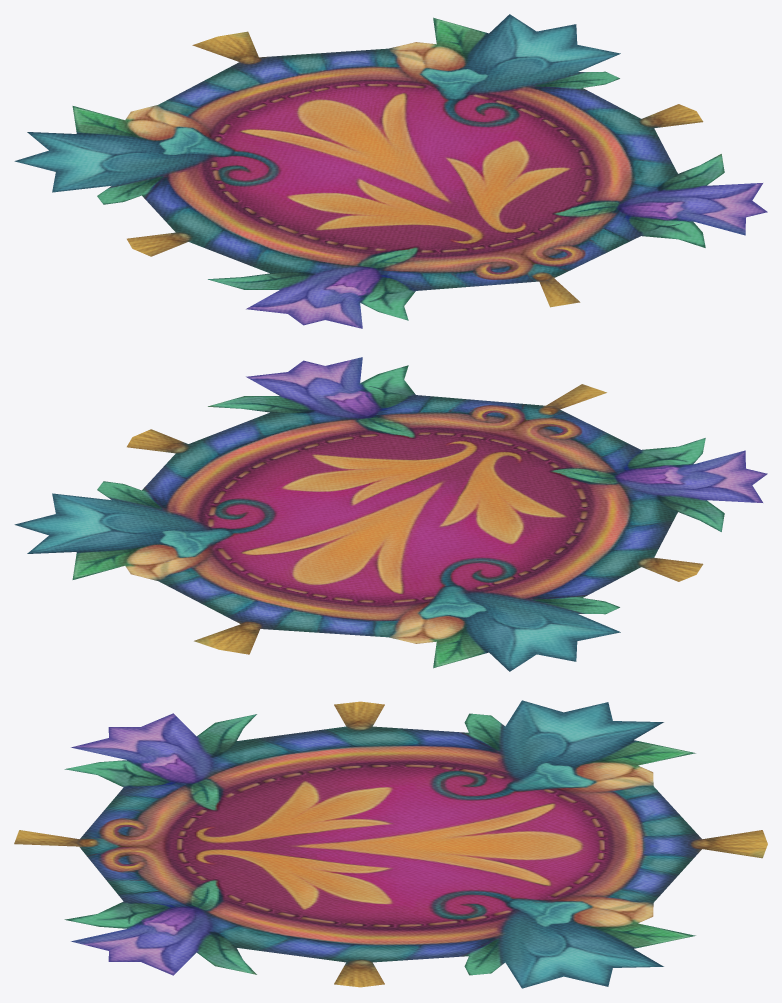
The model's file is FT_Flower_carpet01.FBX.
3 renders of one model, top to bottom at view 1: azimuth 30°, elevation 25°; view 2: azimuth 150°, elevation 25°; view 3: azimuth 270°, elevation 25°, orthographic. The views are drawn at different scales.
Parts seen in each view (by area): view 1: FT_Flower_carpet01; view 2: FT_Flower_carpet01; view 3: FT_Flower_carpet01.
Boxes of the visible parts, box(x1,y1,x2,y2) form: FT_Flower_carpet01: box(14, 14, 767, 328); FT_Flower_carpet01: box(14, 357, 767, 671); FT_Flower_carpet01: box(14, 700, 767, 988).
Size of the model in its own units: 2.65 by 2.71e-09 by 2.93.
Materials: 1 (1 with a texture image).
